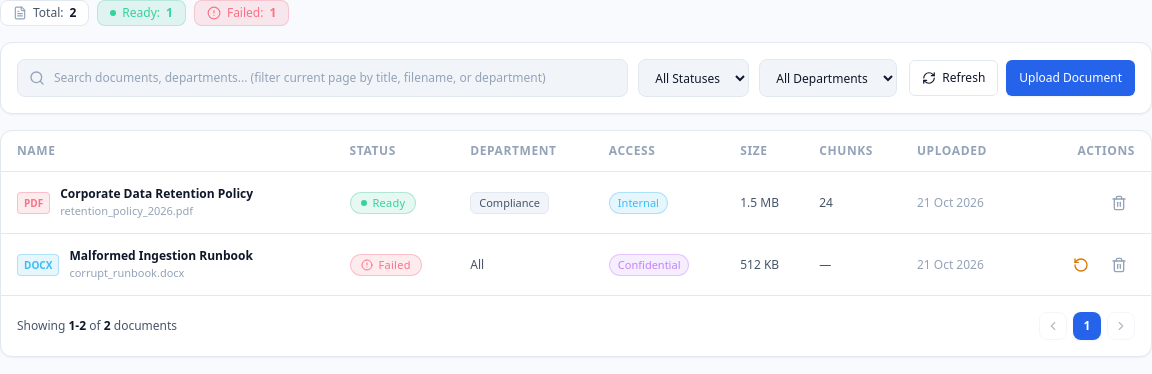
it: Document Management & Ingestion UI › DocumentList › filters documents locally using search input
Expected: the link "Corporate Data Retention Policy" is shown, [60,186,253,201]
Replace the text in the field with placeholder "filter current page" with "Malformed" at (323, 78), box [17,59,628,97]
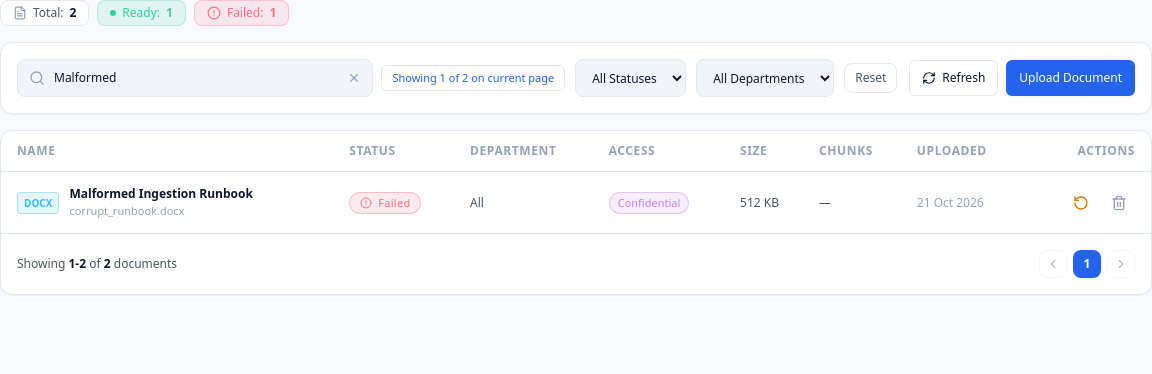
Expected: the link "Malformed Ingestion Runbook" is shown, [69,186,253,201]
Now the link "Corporate Data Retention Policy" is gone
Now the text with test id "page-filter-indicator" reads "Showing 1 of 2 on current page", box [381,65,565,91]
